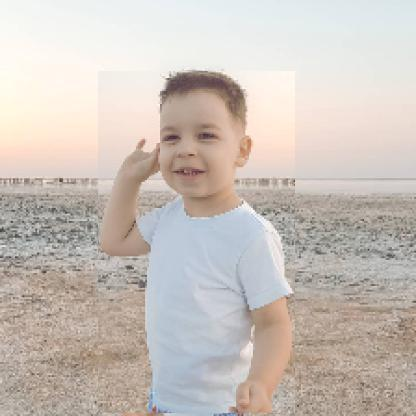child: (99, 72, 297, 415)
